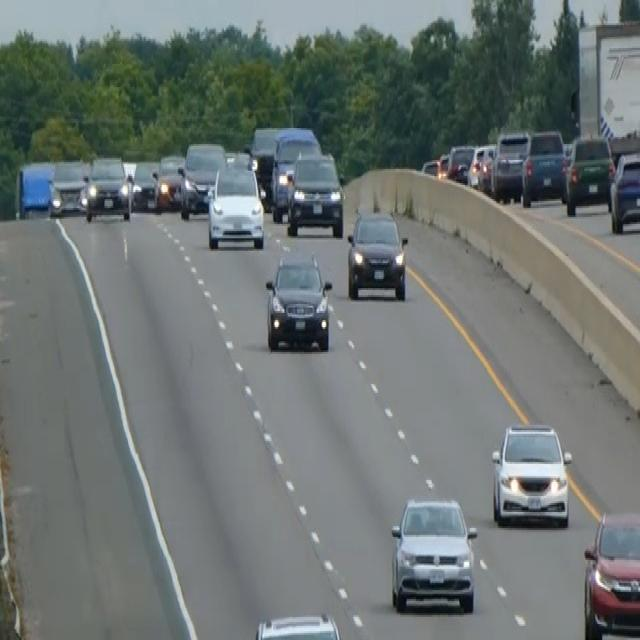car: (389, 492, 478, 614), (490, 420, 572, 528), (582, 507, 639, 638), (346, 207, 408, 300), (206, 158, 265, 249), (285, 150, 344, 236), (270, 124, 321, 220), (562, 132, 614, 215), (520, 126, 565, 206), (179, 140, 225, 218), (82, 153, 131, 222), (490, 128, 530, 201), (608, 149, 639, 233), (252, 610, 342, 638), (248, 122, 279, 202), (49, 157, 88, 215), (154, 151, 185, 210), (130, 156, 159, 210), (467, 142, 495, 190), (446, 142, 474, 185), (420, 156, 442, 178)
jeep: (263, 250, 333, 354)
lorry: (572, 16, 639, 158), (14, 158, 55, 219)
